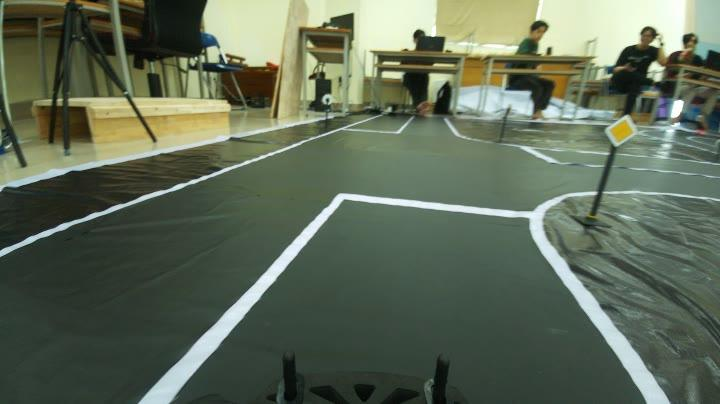priority: (601, 106, 642, 148)
